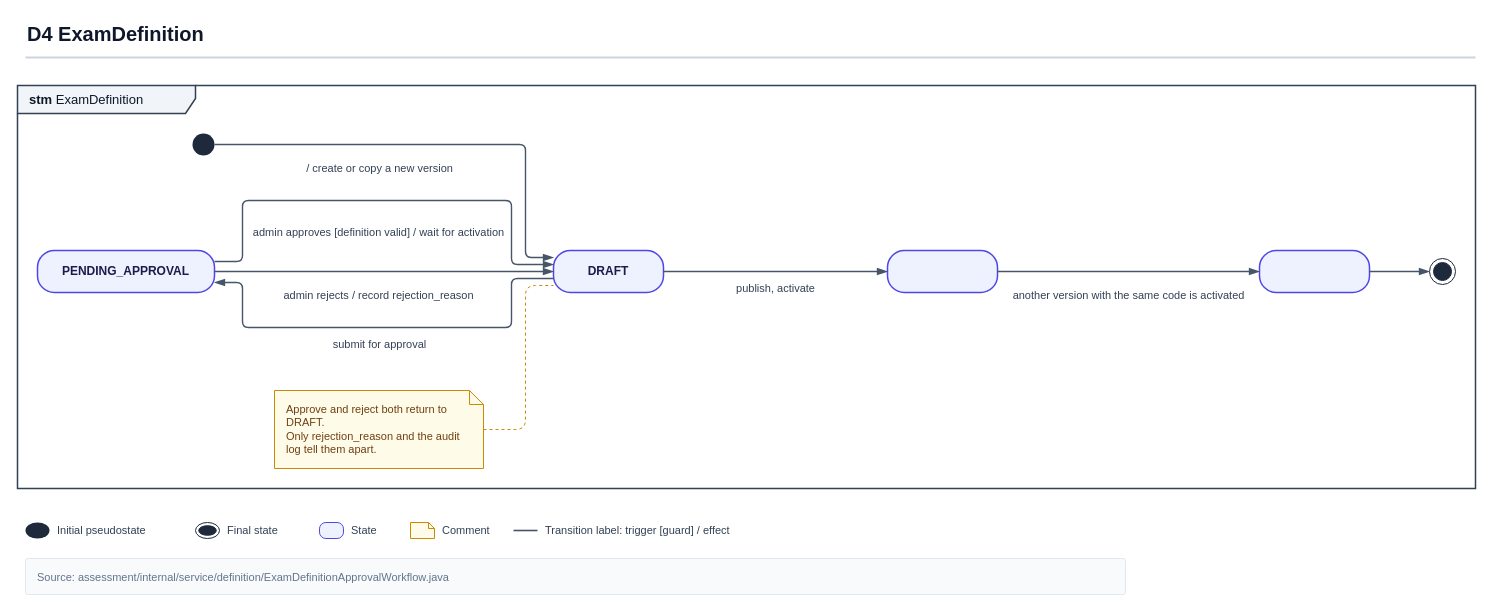
This 1494x612 diagram has some shape labels left out. Each missing label, with the centre of its shape:
ACTIVE: the point at 942,271
RETIRED: the point at 1314,271
